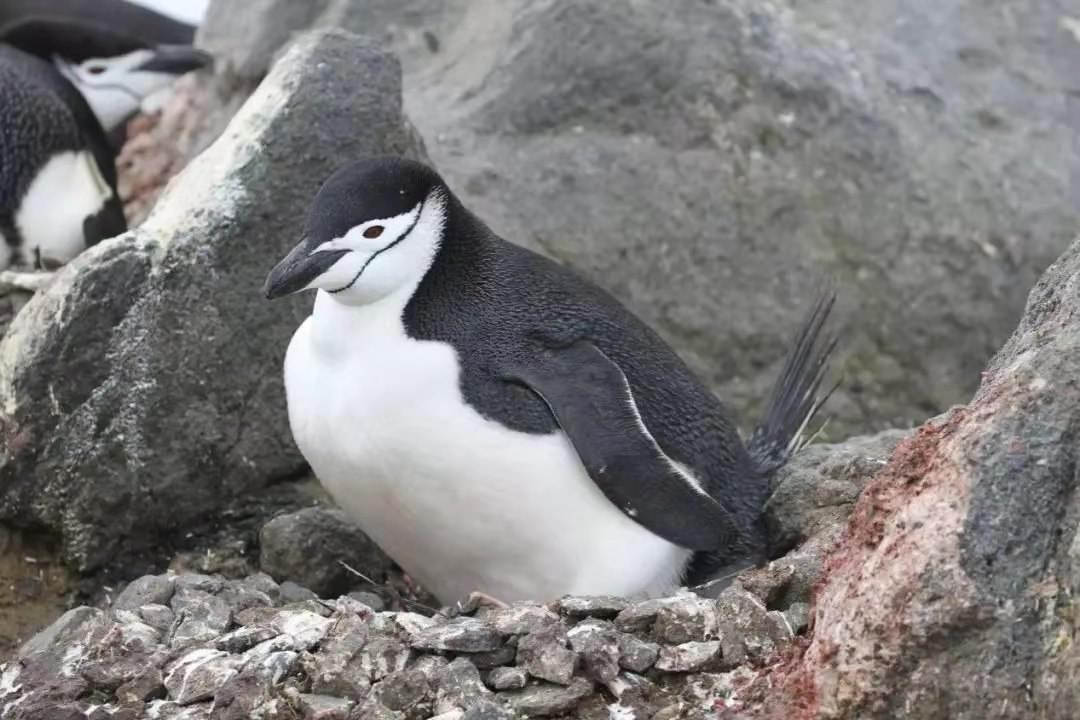Penguin: (266, 158, 833, 603), (0, 0, 208, 268)
